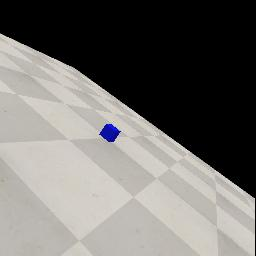box: (99, 124, 121, 142)
